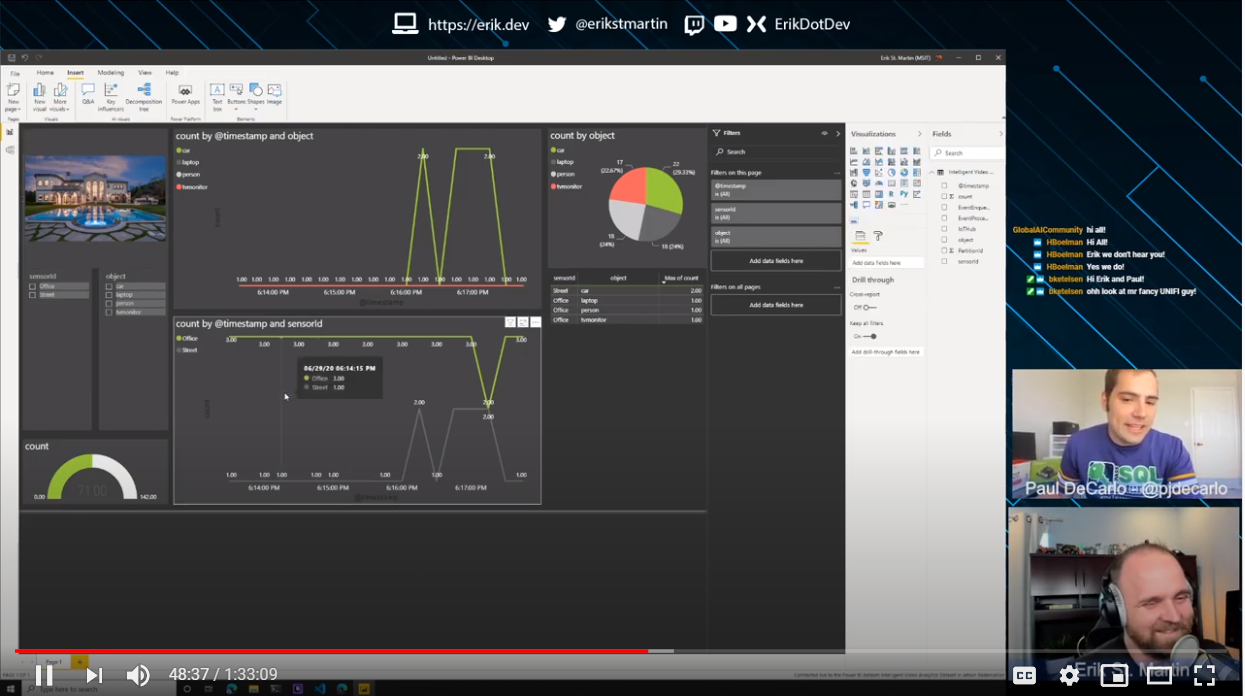

This screenshot's page, from the dashboard's own definition file:
{"tool":"powerbi","page":{"name":"Page 1","canvas":[1280,720],"ordinal":0},"visuals":[{"type":"tableEx","fields":{"Values":["AcceleratedEdge-ObjectDetections.sensorId","AcceleratedEdge-ObjectDetections.object","Max(AcceleratedEdge-ObjectDetections.count)"]},"box":[983.2,273.7,296.6,435.7],"z":0},{"type":"lineChart","fields":{"Series":["AcceleratedEdge-ObjectDetections.object"],"Category":["AcceleratedEdge-ObjectDetections.@timestamp"],"Y":["Sum(AcceleratedEdge-ObjectDetections.count)"]},"box":[286.9,10.6,684.8,335.4],"z":1000},{"type":"image","title":"3303 Meadway Dr. Houston, TX","box":[7,10.6,271.1,244.7],"z":2000},{"type":"gauge","fields":{"Y":["Sum(AcceleratedEdge-ObjectDetections.count)"]},"box":[7,588,271.1,121.5],"z":3000},{"type":"pieChart","fields":{"Category":["AcceleratedEdge-ObjectDetections.object"],"Y":["Sum(AcceleratedEdge-ObjectDetections.count)"]},"box":[983.3,10.2,296.7,259.5],"z":4000},{"type":"slicer","fields":{"Values":["AcceleratedEdge-ObjectDetections.sensorId"]},"box":[7,270.2,129.4,301],"z":5000},{"type":"slicer","fields":{"Values":["AcceleratedEdge-ObjectDetections.object"]},"box":[148.8,270.2,129.4,301],"z":6000},{"type":"lineChart","fields":{"Y":["Sum(AcceleratedEdge-ObjectDetections.count)"],"Category":["AcceleratedEdge-ObjectDetections.@timestamp"],"Series":["AcceleratedEdge-ObjectDetections.sensorId"]},"box":[286.9,360,684.8,349.4],"z":7000}]}

Visuals, with their boxes on the page's 1280x720 design canvas (x1, y1, x2, y2). These are canvas units, not pixel positions in the 1245x696 screenshot, which may show the page scaled, cropped or inside an application window:
tableEx - AcceleratedEdge-ObjectDetections.sensorId x AcceleratedEdge-ObjectDetections.object: region(983, 274, 1280, 709)
lineChart - AcceleratedEdge-ObjectDetections.object x AcceleratedEdge-ObjectDetections.@timestamp: region(287, 11, 972, 346)
"3303 Meadway Dr. Houston, TX" image: region(7, 11, 278, 255)
gauge - Sum(AcceleratedEdge-ObjectDetections.count): region(7, 588, 278, 710)
pieChart - AcceleratedEdge-ObjectDetections.object x Sum(AcceleratedEdge-ObjectDetections.count): region(983, 10, 1280, 270)
slicer - AcceleratedEdge-ObjectDetections.sensorId: region(7, 270, 136, 571)
slicer - AcceleratedEdge-ObjectDetections.object: region(149, 270, 278, 571)
lineChart - Sum(AcceleratedEdge-ObjectDetections.count) x AcceleratedEdge-ObjectDetections.@timestamp: region(287, 360, 972, 709)
